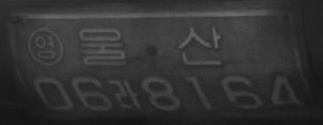0: (33, 76, 72, 112)
1: (182, 74, 216, 112)
4: (269, 73, 304, 109)
6: (220, 73, 264, 111), (72, 75, 112, 112)
8: (145, 74, 182, 111)
라: (112, 77, 144, 110)
영: (27, 26, 64, 66)
울산_D: (78, 25, 222, 66)
